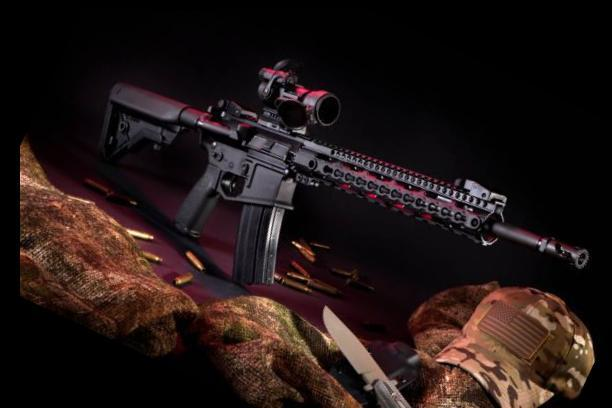larga: (100, 59, 589, 285)
